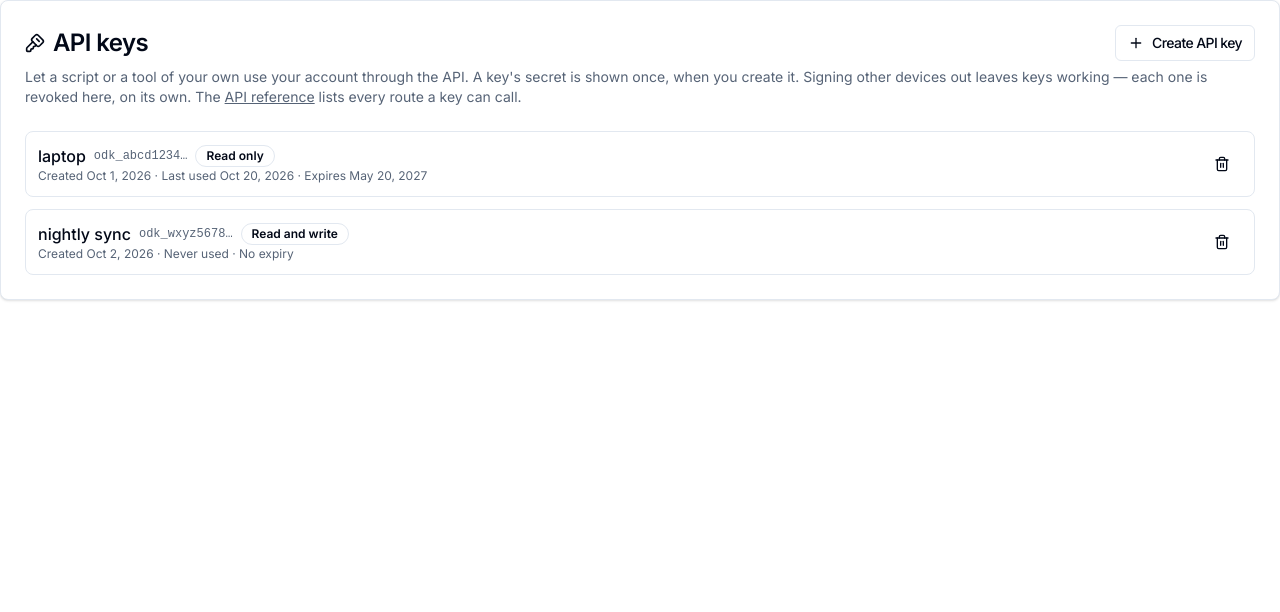
Test: ApiKeysCard › shows the API's refusal in the form
The width and height of the screenshot is (1280, 612).
Check: the text "laptop" is shown, box [38,144,86,168]
Click the button "Create API key" at (1185,43), box [1115,25,1255,61]
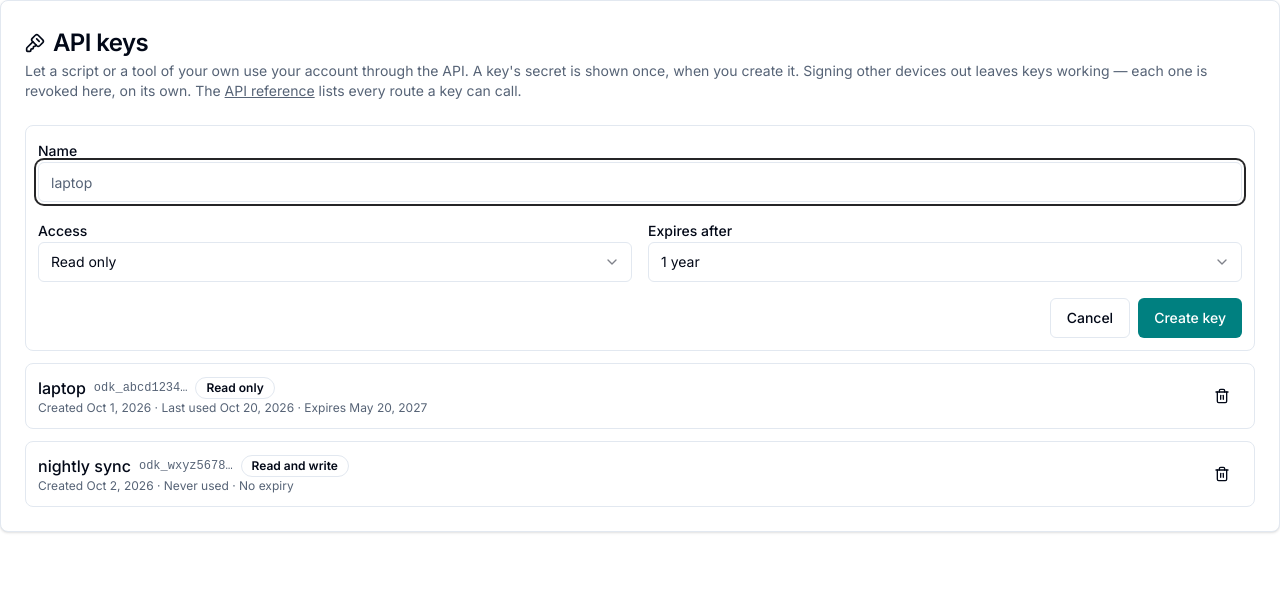
Type "one more" into the field labelled "Name" at (640,182), box [38,162,1242,202]
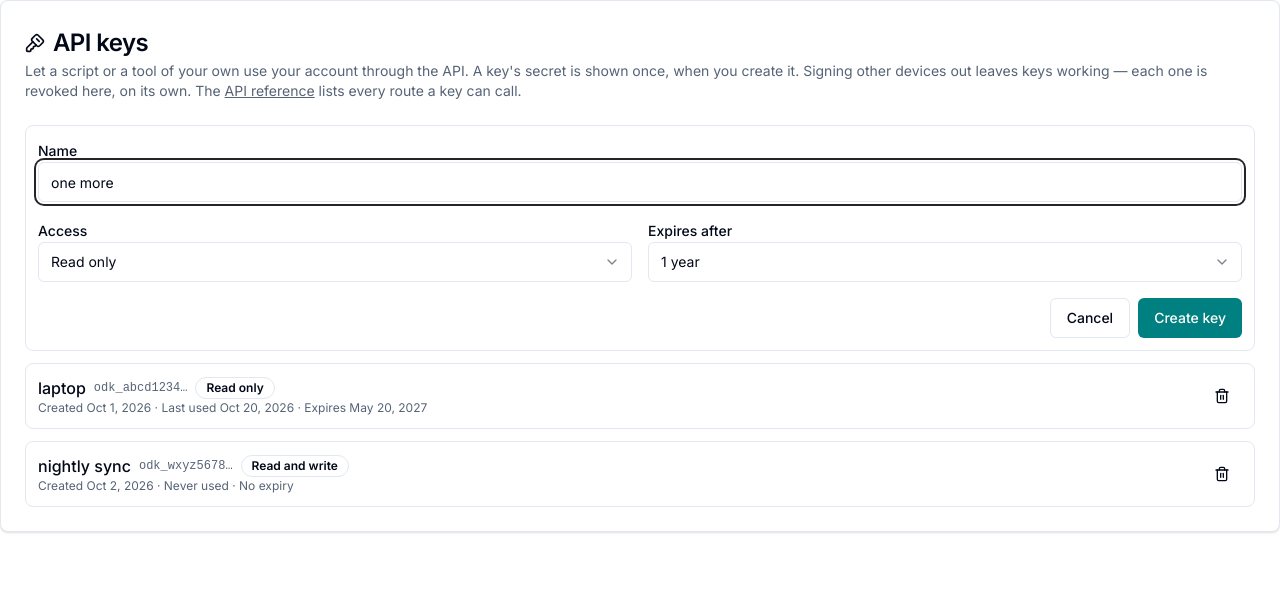
Click the button "Create key" at (1190,318), box [1138,298,1242,338]
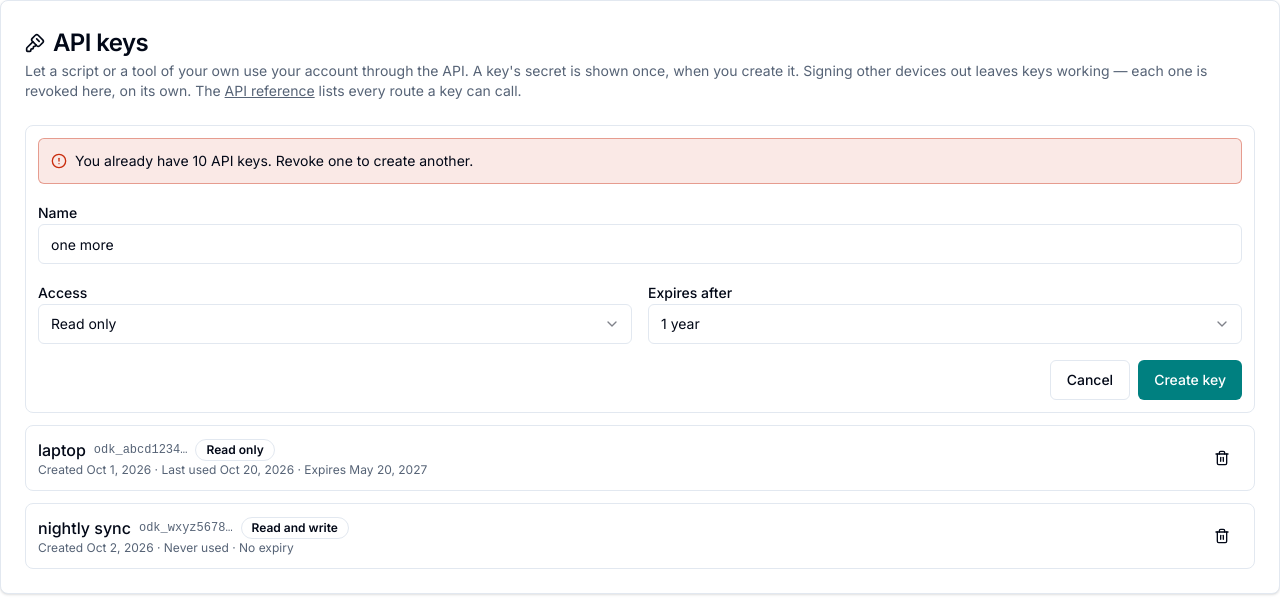
Check: the text "You already have 10 API keys. Revoke one to create another." is shown, box [75,151,473,171]
